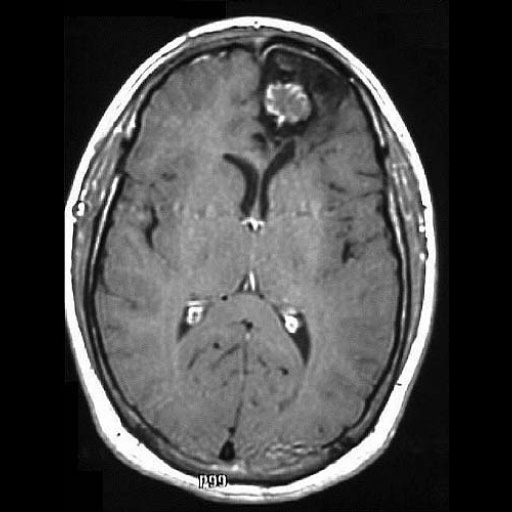tumor: (261, 79, 314, 126)
